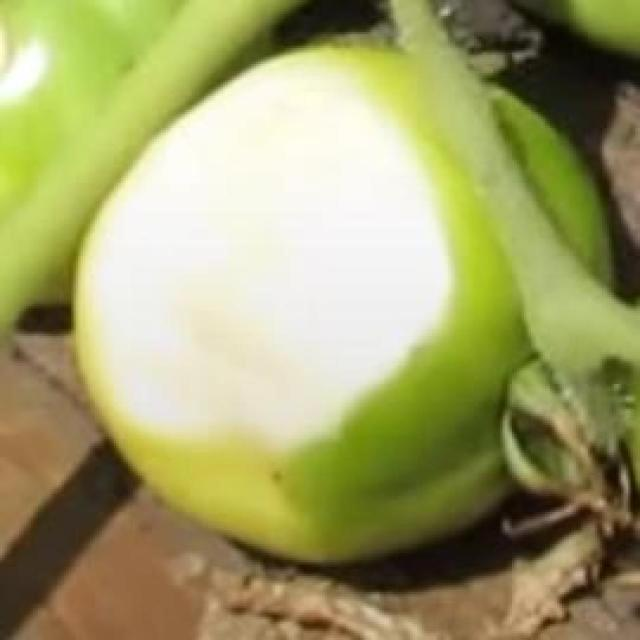Sunscald Fruit: (51, 36, 307, 296)
